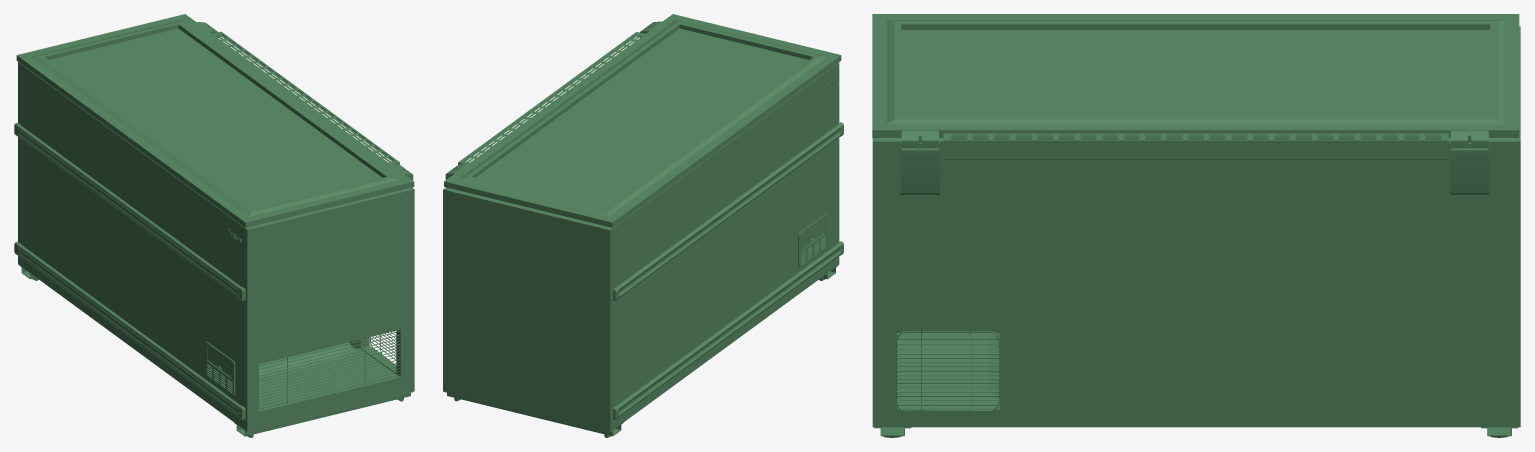
File: LSM_Final.fbx
3 views of the same model, side by side, from view 1: azimuth 30°, elevation 25°; view 2: azimuth 150°, elevation 25°; view 3: azimuth 270°, elevation 25° (orthographic). The views are drawn at different scales.
Visible parts, largest first — view 1: LSM_Structure, LSM_Cover, LSM_FrontRubber2, LSM_FrontRubber3, LSM_BackGrid2, LSM_BackHinge, LSM_DigitalFront1, LSM_L_Feet; view 2: LSM_Structure, LSM_Cover, LSM_FrontRubber2, LSM_FrontRubber3, LSM_BackHinge, LSM_DigitalFront1, LSM_R_Feet; view 3: LSM_Structure, LSM_Cover, LSM_BackHinge, LSM_BackGrid1, LSM_R_Hinge, LSM_L_Hinge.
Part boxes in pixels (left/top/right/bottom): LSM_Structure: left=18, top=62, right=414, bottom=431; LSM_Cover: left=16, top=14, right=414, bottom=227; LSM_FrontRubber2: left=14, top=241, right=245, bottom=420; LSM_FrontRubber3: left=14, top=123, right=245, bottom=301; LSM_BackGrid2: left=259, top=331, right=400, bottom=408; LSM_BackHinge: left=212, top=31, right=399, bottom=164; LSM_DigitalFront1: left=205, top=341, right=235, bottom=395; LSM_L_Feet: left=234, top=392, right=412, bottom=437; LSM_Structure: left=443, top=62, right=839, bottom=432; LSM_Cover: left=444, top=14, right=841, bottom=227; LSM_FrontRubber2: left=613, top=241, right=843, bottom=419; LSM_FrontRubber3: left=613, top=122, right=843, bottom=300; LSM_BackHinge: left=458, top=31, right=644, bottom=164; LSM_DigitalFront1: left=798, top=213, right=828, bottom=267; LSM_R_Feet: left=447, top=392, right=622, bottom=437; LSM_Structure: left=872, top=26, right=1520, bottom=427; LSM_Cover: left=872, top=14, right=1519, bottom=137; LSM_BackHinge: left=943, top=133, right=1448, bottom=159; LSM_BackGrid1: left=896, top=327, right=1000, bottom=416; LSM_R_Hinge: left=1450, top=130, right=1489, bottom=194; LSM_L_Hinge: left=900, top=130, right=939, bottom=194.
Bounding box in the file's own units: 76.27 × 88.82 × 166.
